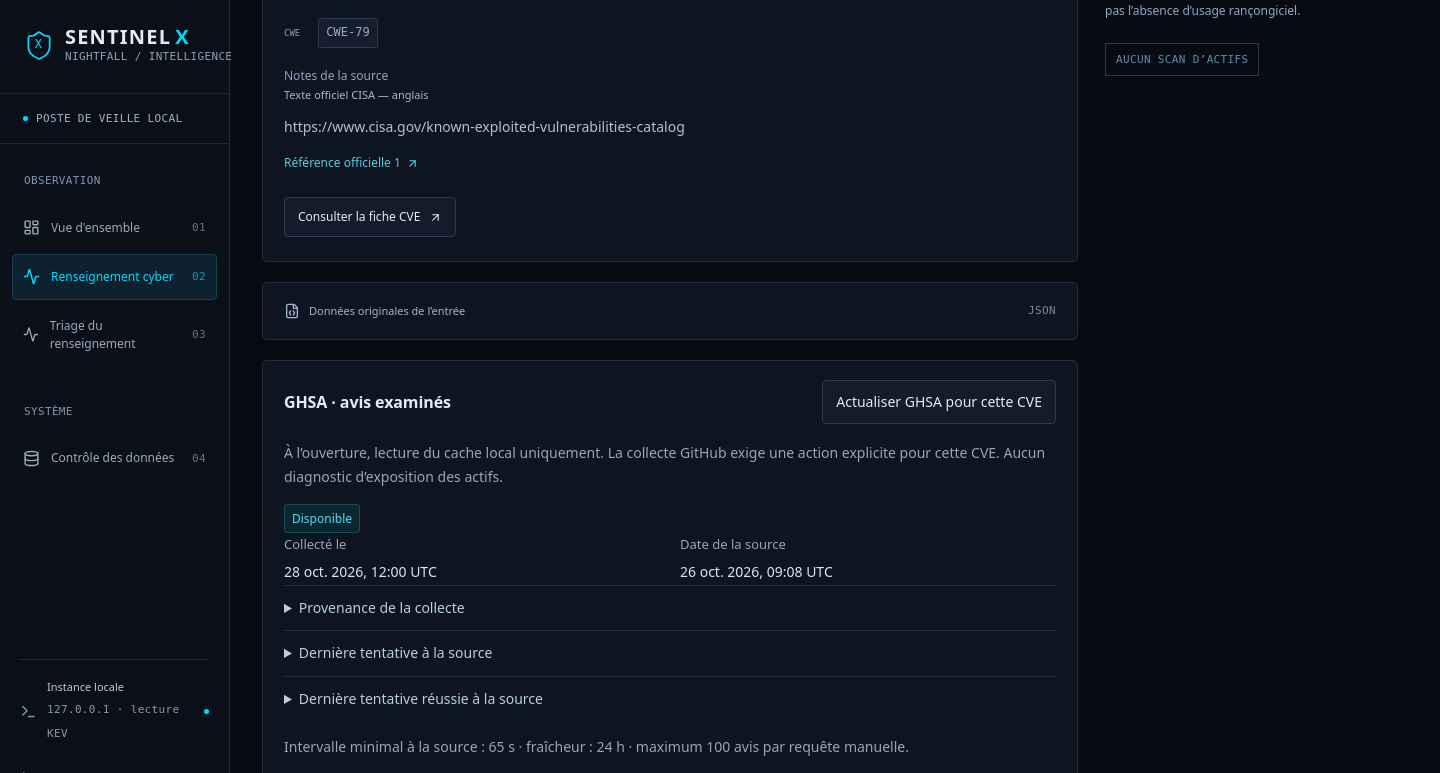
Test: displays the source cooldown and retained cached records after a structured failed refresh
(page scrolled)
Click the button "Actualiser GHSA pour cette CVE" at (939, 402), box [822,380,1056,424]
(page scrolled)
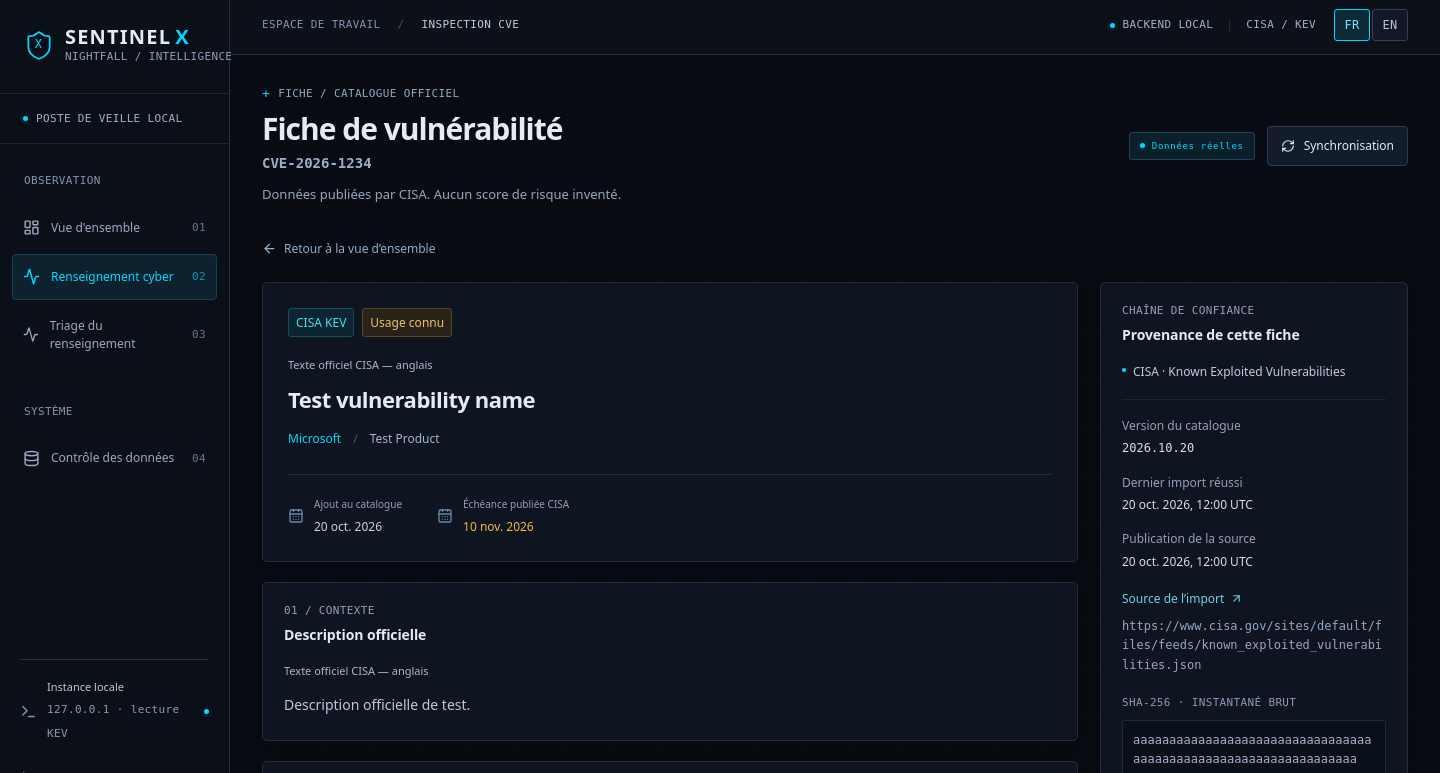
Click the button with test id "language-en" at (1390, 25), box [1372,9,1408,41]
(page scrolled)
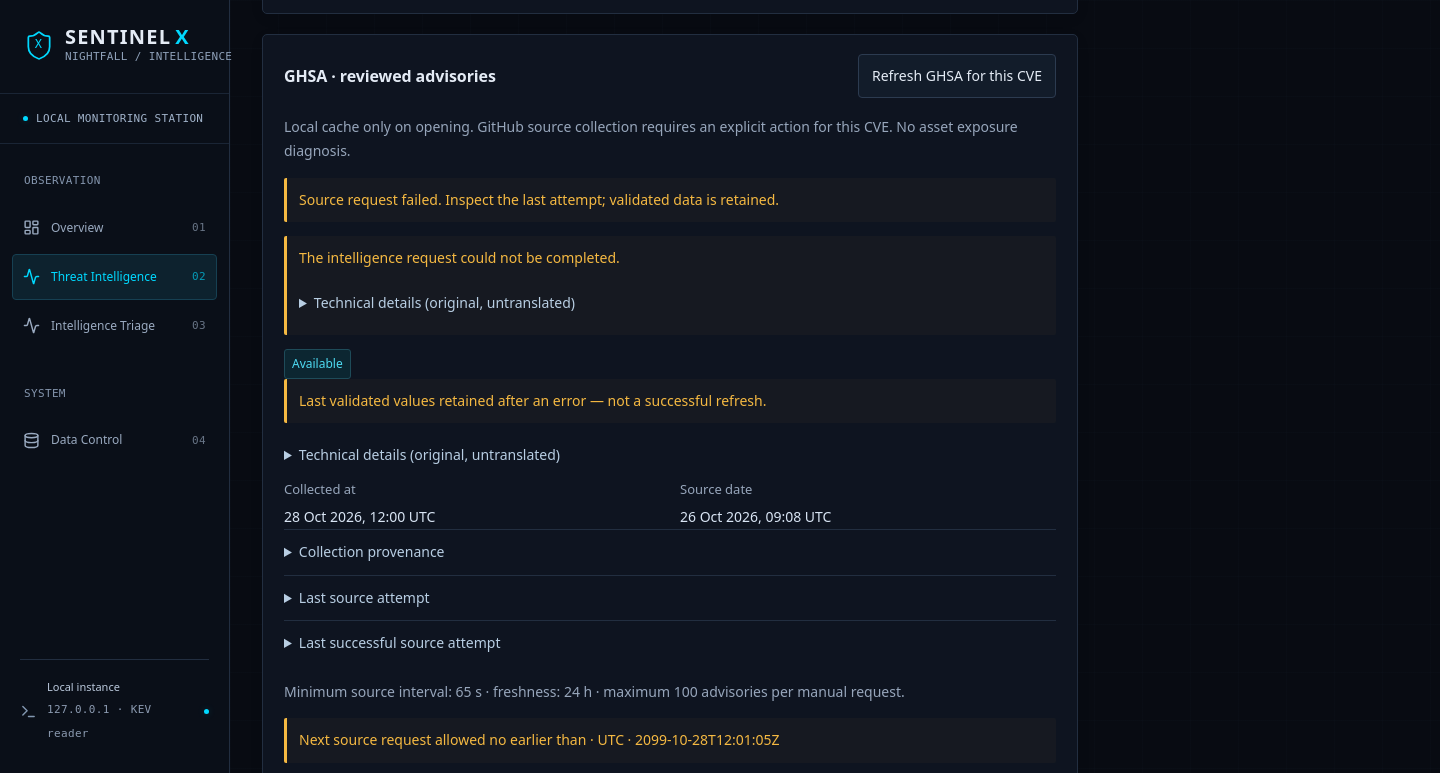
Now the text "Last validated values retained after an error — not a successful refresh." is shown, box [284,379,1056,423]
